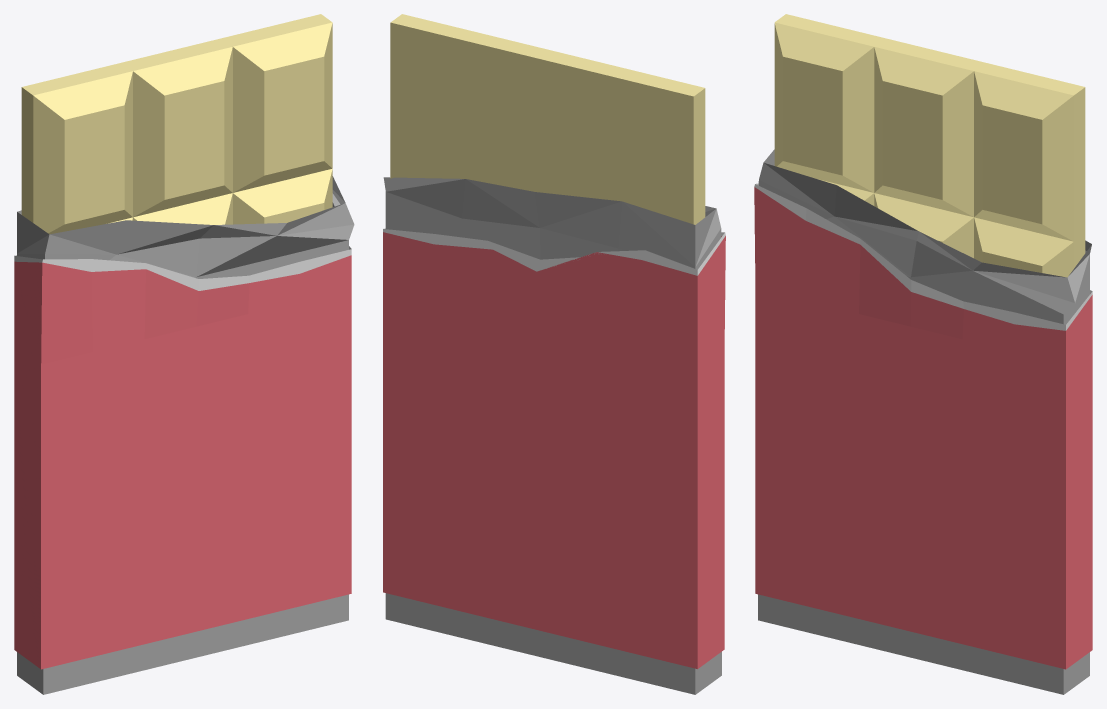
The model's file is chocolate_white.fbx.
The picture shows the model from 3 angles, left to right: view 1: azimuth 30°, elevation 25°; view 2: azimuth 150°, elevation 25°; view 3: azimuth 330°, elevation 25°; orthographic projection.
Parts seen in each view (by area): view 1: chocolate_white; view 2: chocolate_white; view 3: chocolate_white.
Boxes of the visible parts, x1=… form: chocolate_white: x1=14, y1=14, x2=354, y2=694; chocolate_white: x1=383, y1=14, x2=725, y2=694; chocolate_white: x1=754, y1=14, x2=1092, y2=694.
Size of the model in its own units: 8.84 by 15.72 by 1.85.
